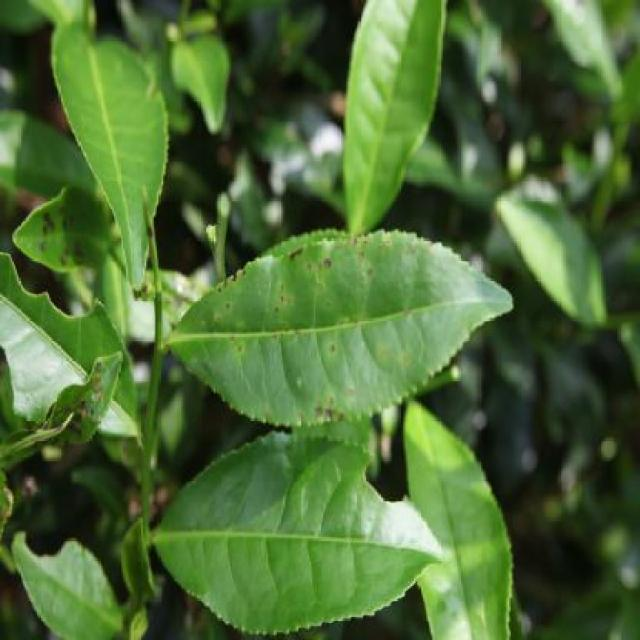Tea Mosquito bug infested leaf: (164, 223, 510, 428), (20, 351, 129, 457), (9, 181, 129, 277)
